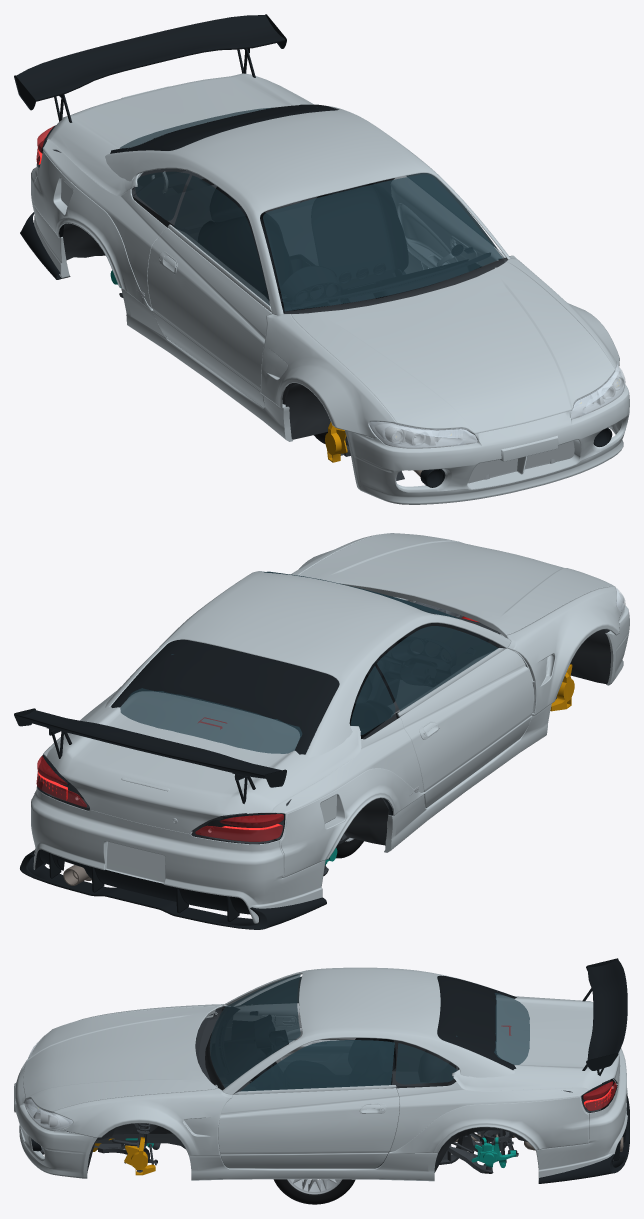
Rendered from silvia-s15.glb.
3 renders of one model, top to bottom at view 1: azimuth 30°, elevation 25°; view 2: azimuth 150°, elevation 25°; view 3: azimuth 270°, elevation 25°, orthographic. The views are drawn at different scales.
Visible parts, largest first — view 1: mesh165_slivki_body_0, mesh103_slivki_body_0, mesh_slivki_glass_tint_0, mesh272_slivki_body_0, mesh240_slivki_black_0, mesh011_slivki_black_0, mesh047_slivki_black_0, mesh214_slivki_body_0, mesh284_slivki_frame_0, mesh090_slivki_interior2_0, mesh236_slivki_glass_tint_0, mesh235_slivki_chrome_0 (+18 smaller); view 2: mesh103_slivki_body_0, mesh011_slivki_black_0, mesh165_slivki_body_0, mesh256_slivki_body_0, mesh240_slivki_black_0, mesh097_slivki_black_0, mesh256_slivki_black_0, mesh098_slivki_glass_tint_0, mesh214_slivki_body_0, mesh236_slivki_glass_tint_0, mesh284_slivki_frame_0, mesh047_slivki_black_0 (+11 smaller); view 3: mesh103_slivki_body_0, mesh165_slivki_body_0, mesh241_slivki_black_0, mesh011_slivki_black_0, mesh219_slivki_body_0, mesh_slivki_glass_tint_0, mesh238_slivki_glass_tint_0, mesh284_slivki_frame_0, mesh069_slivki_body_0, mesh097_slivki_black_0, mesh047_slivki_black_0, mesh256_slivki_body_0 (+18 smaller).
Part boxes in pixels (<box>): mesh165_slivki_body_0: <box>291,261,615,433</box>; mesh103_slivki_body_0: <box>34,106,510,315</box>; mesh_slivki_glass_tint_0: <box>263,174,502,311</box>; mesh272_slivki_body_0: <box>345,383,629,504</box>; mesh240_slivki_black_0: <box>147,224,271,407</box>; mesh011_slivki_black_0: <box>46,73,313,195</box>; mesh047_slivki_black_0: <box>14,14,286,122</box>; mesh214_slivki_body_0: <box>260,313,396,437</box>; mesh284_slivki_frame_0: <box>39,149,507,438</box>; mesh090_slivki_interior2_0: <box>311,182,408,289</box>; mesh236_slivki_glass_tint_0: <box>174,175,270,305</box>; mesh235_slivki_chrome_0: <box>391,176,503,273</box>; mesh103_slivki_body_0: <box>34,571,510,877</box>; mesh011_slivki_black_0: <box>46,687,361,833</box>; mesh165_slivki_body_0: <box>299,533,614,637</box>; mesh256_slivki_body_0: <box>31,787,325,923</box>; mesh240_slivki_black_0: <box>397,648,533,807</box>; mesh097_slivki_black_0: <box>111,639,339,754</box>; mesh256_slivki_black_0: <box>20,783,326,929</box>; mesh098_slivki_glass_tint_0: <box>120,654,302,753</box>; mesh214_slivki_body_0: <box>506,586,621,715</box>; mesh236_slivki_glass_tint_0: <box>376,626,498,711</box>; mesh284_slivki_frame_0: <box>39,596,609,843</box>; mesh047_slivki_black_0: <box>14,708,286,803</box>; mesh103_slivki_body_0: <box>222,967,601,1153</box>; mesh165_slivki_body_0: <box>23,1006,218,1112</box>; mesh241_slivki_black_0: <box>218,1085,399,1168</box>; mesh011_slivki_black_0: <box>452,995,620,1090</box>; mesh219_slivki_body_0: <box>52,1088,232,1155</box>; mesh_slivki_glass_tint_0: <box>210,974,300,1087</box>; mesh238_slivki_glass_tint_0: <box>240,1040,394,1091</box>; mesh284_slivki_frame_0: <box>64,1006,610,1168</box>; mesh069_slivki_body_0: <box>189,1153,437,1181</box>; mesh097_slivki_black_0: <box>437,975,516,1069</box>; mesh047_slivki_black_0: <box>582,958,627,1075</box>; mesh256_slivki_body_0: <box>536,1048,627,1180</box>.
Bounding box in the file's own units: 1.83 × 1.63 × 4.43.
